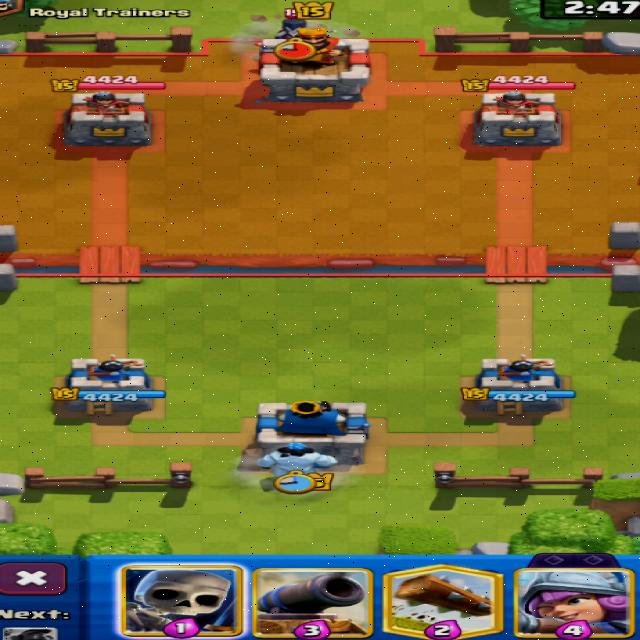Enemy-KingTower: (260, 27, 368, 101)
Enemy-NightWitch: (274, 19, 305, 40)
Enemy-PrincessTower: (474, 91, 561, 146), (64, 91, 151, 144)
Player-IceGolem: (258, 442, 337, 477)
Player-KingTower: (256, 400, 370, 463)
Player-PrincessTower: (51, 355, 165, 415), (463, 355, 575, 414)
